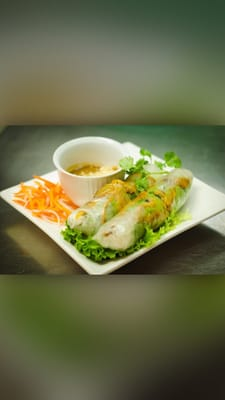pizza: (53, 136, 127, 208)
sushi: (52, 136, 129, 208)
